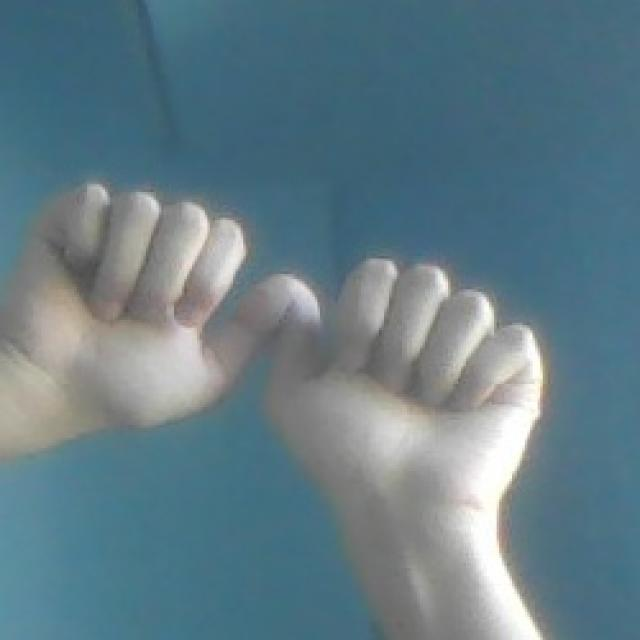Alphabet-A: (15, 180, 551, 527)
